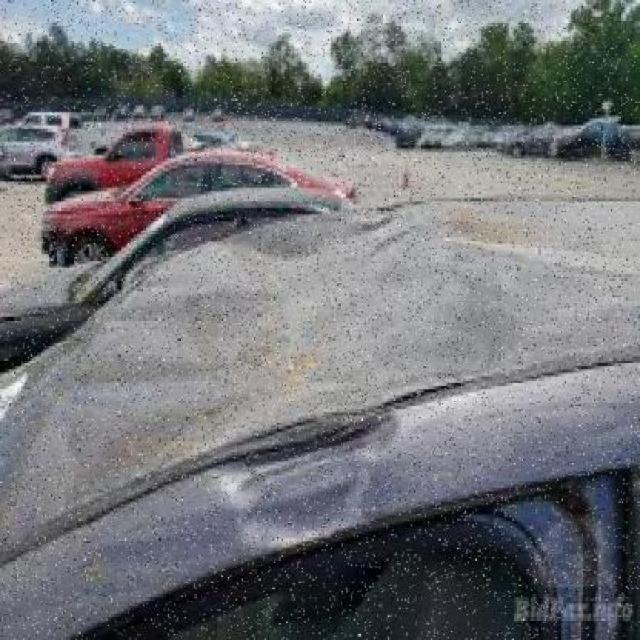roof-dent: (0, 197, 638, 587)
